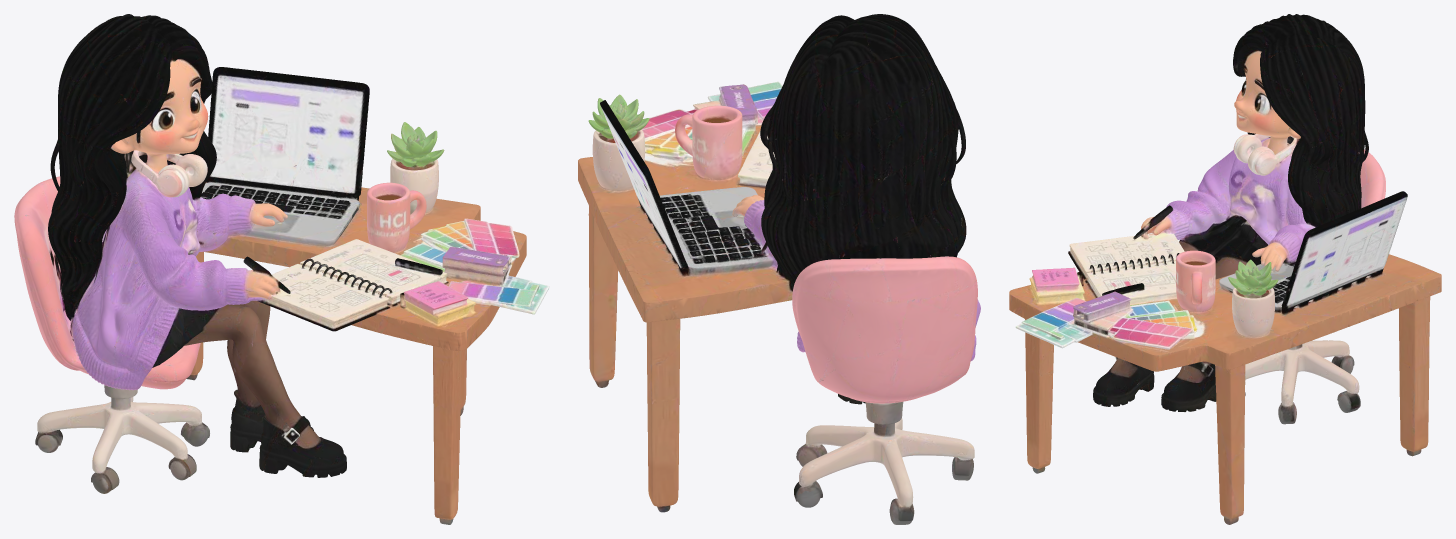
The model's file is chibi-avatar.glb.
The picture shows the model from 3 angles, left to right: view 1: azimuth 30°, elevation 25°; view 2: azimuth 150°, elevation 25°; view 3: azimuth 270°, elevation 25°; orthographic projection. The views are drawn at different scales.
Parts seen in each view (by area): view 1: Mesh_0.002; view 2: Mesh_0.002; view 3: Mesh_0.002.
Boxes of the visible parts, bbox=[...] form: Mesh_0.002: bbox=[14, 14, 549, 524]; Mesh_0.002: bbox=[578, 14, 980, 524]; Mesh_0.002: bbox=[1009, 14, 1441, 524].
Bounding box in the file's own units: 0.7493 × 0.75 × 0.7665.
1 material, 1 textured.
